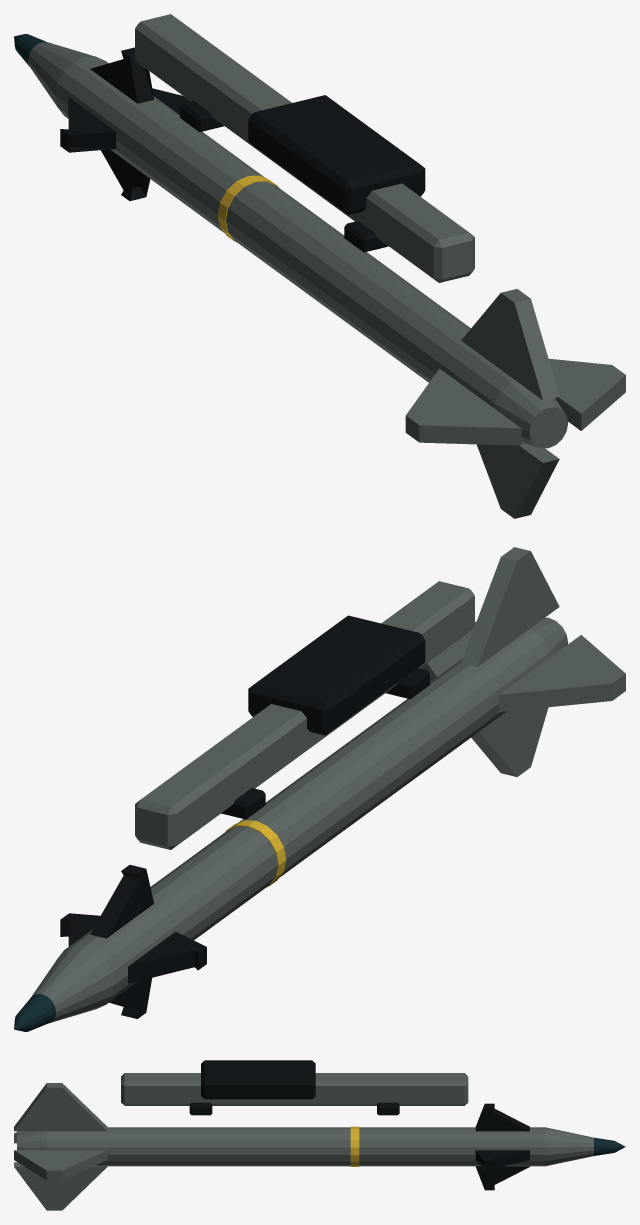
Rendered from MissileAArail.obj.
3 renders of one model, top to bottom at view 1: azimuth 30°, elevation 25°; view 2: azimuth 150°, elevation 25°; view 3: azimuth 270°, elevation 25°, orthographic. The views are drawn at different scales.
Parts seen in each view (by area): view 1: AA_body, Rail_spine, Mount_lug, AA_tail_fin.001, AA_tail_fin.002, AA_tail_fin.003, AA_tail_fin, Forward_control_fin.002, Forward_control_fin.001, Forward_control_fin.003, Rail_retaining_lug, Rail_retaining_lug.001 (+1 smaller); view 2: AA_body, Rail_spine, Mount_lug, AA_tail_fin.001, AA_tail_fin.002, AA_tail_fin.003, Forward_control_fin.001, Forward_control_fin.002, Optical_seeker, Forward_control_fin.003, AA_tail_fin, Forward_control_fin (+3 smaller); view 3: AA_body, Rail_spine, Mount_lug, AA_tail_fin.001, AA_tail_fin, AA_tail_fin.003, Forward_control_fin.001, Forward_control_fin, Forward_control_fin.003, Identification_band, Optical_seeker, Rail_retaining_lug (+1 smaller).
Part boxes in pixels (bbox=[...]): AA_body: bbox=[28, 42, 567, 448]; Rail_spine: bbox=[135, 14, 474, 282]; Mount_lug: bbox=[248, 95, 425, 214]; AA_tail_fin.001: bbox=[461, 289, 559, 400]; AA_tail_fin.002: bbox=[405, 368, 521, 445]; AA_tail_fin.003: bbox=[476, 443, 559, 518]; AA_tail_fin: bbox=[548, 358, 625, 430]; Forward_control_fin.002: bbox=[60, 97, 115, 152]; Forward_control_fin.001: bbox=[90, 47, 154, 103]; Forward_control_fin.003: bbox=[101, 149, 150, 200]; Rail_retaining_lug: bbox=[344, 221, 388, 252]; Rail_retaining_lug.001: bbox=[180, 100, 224, 132]; AA_body: bbox=[32, 617, 568, 1023]; Rail_spine: bbox=[135, 581, 474, 849]; Mount_lug: bbox=[248, 615, 425, 735]; AA_tail_fin.001: bbox=[461, 547, 559, 666]; AA_tail_fin.002: bbox=[499, 635, 625, 711]; AA_tail_fin.003: bbox=[471, 707, 548, 776]; Forward_control_fin.001: bbox=[90, 865, 153, 938]; Forward_control_fin.002: bbox=[128, 931, 206, 983]; Optical_seeker: bbox=[14, 994, 56, 1031]; Forward_control_fin.003: bbox=[109, 978, 151, 1018]; AA_tail_fin: bbox=[419, 621, 476, 681]; Forward_control_fin: bbox=[60, 913, 100, 946]; AA_body: bbox=[17, 1127, 593, 1166]; Rail_spine: bbox=[121, 1073, 468, 1105]; Mount_lug: bbox=[201, 1060, 315, 1099]; AA_tail_fin.001: bbox=[14, 1083, 107, 1131]; AA_tail_fin: bbox=[14, 1150, 107, 1180]; AA_tail_fin.003: bbox=[14, 1162, 107, 1210]; Forward_control_fin.001: bbox=[475, 1103, 529, 1131]; Forward_control_fin: bbox=[475, 1150, 529, 1170]; Forward_control_fin.003: bbox=[475, 1166, 529, 1190]; Identification_band: bbox=[350, 1126, 359, 1166]; Optical_seeker: bbox=[594, 1137, 625, 1155]; Rail_retaining_lug: bbox=[189, 1102, 212, 1115].
Bounding box in the file's own units: 0.45 × 0.505 × 2.03.
